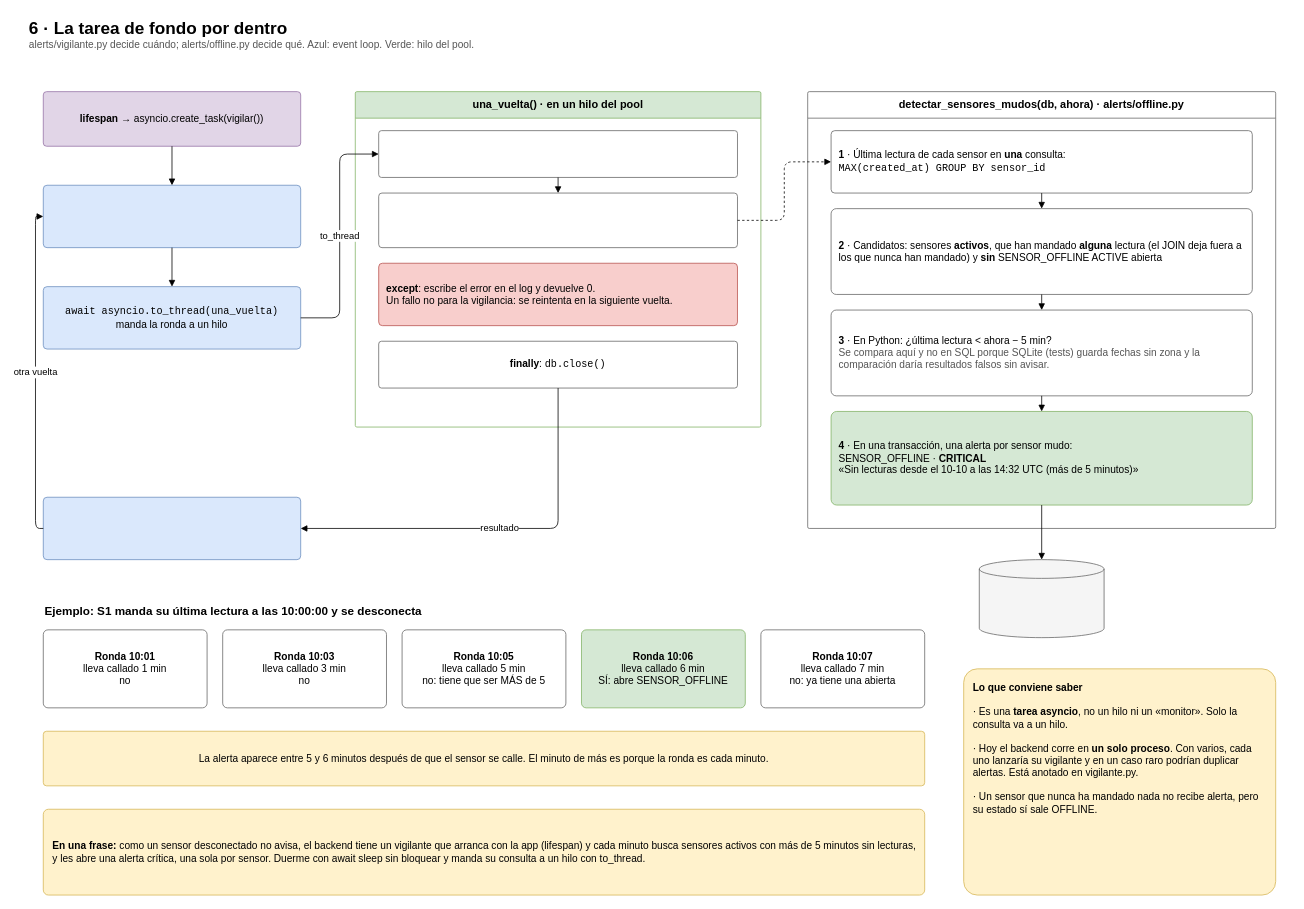
Some shapes in this 1304 by 909 pixel diagram are drawn without their labels. Here are the shapes that lost their labels. From the top down, the centre of each, then its label:
[557,153]: db = SessionLocal() · su propia sesión
[172,216]: vigilar() · bucle infinito while True:
[557,220]: detectar_sensores_mudos(db) → cuántas alertas ha abierto
[172,528]: await asyncio.sleep(60) duerme 1 min sin bloquear nada
[1041,598]: PostgreSQL
